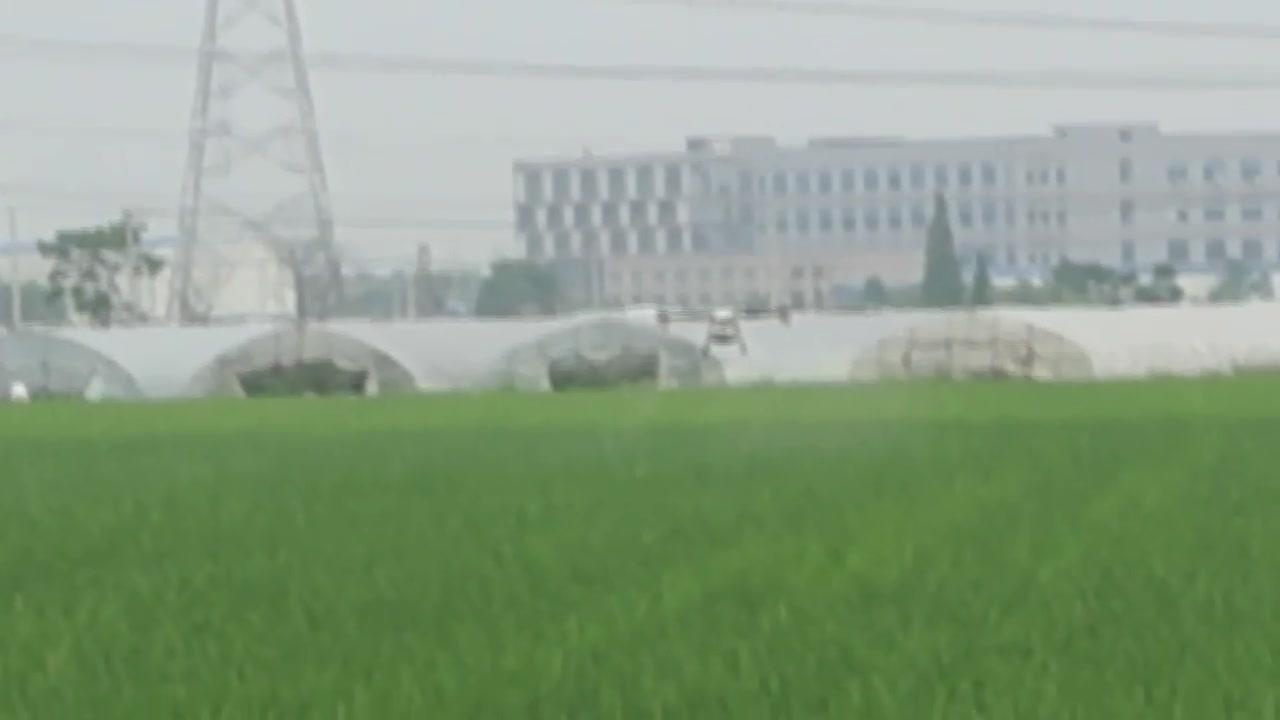UAV: (658, 305, 806, 359)
